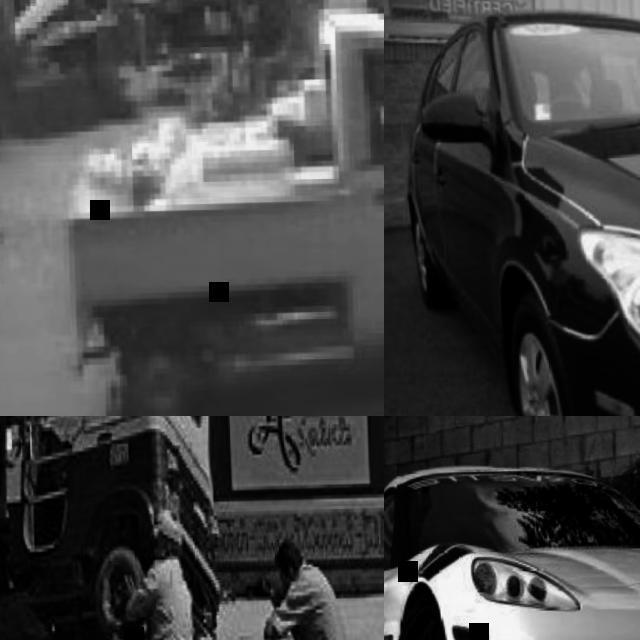car: (64, 0, 384, 407), (406, 0, 639, 422), (4, 416, 220, 639), (447, 468, 639, 547), (262, 564, 355, 639)
